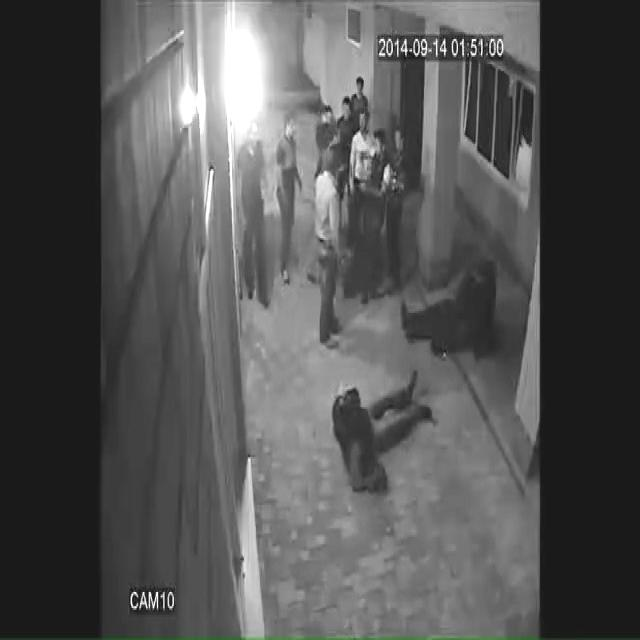fight: (304, 252, 529, 481), (288, 90, 417, 342)
